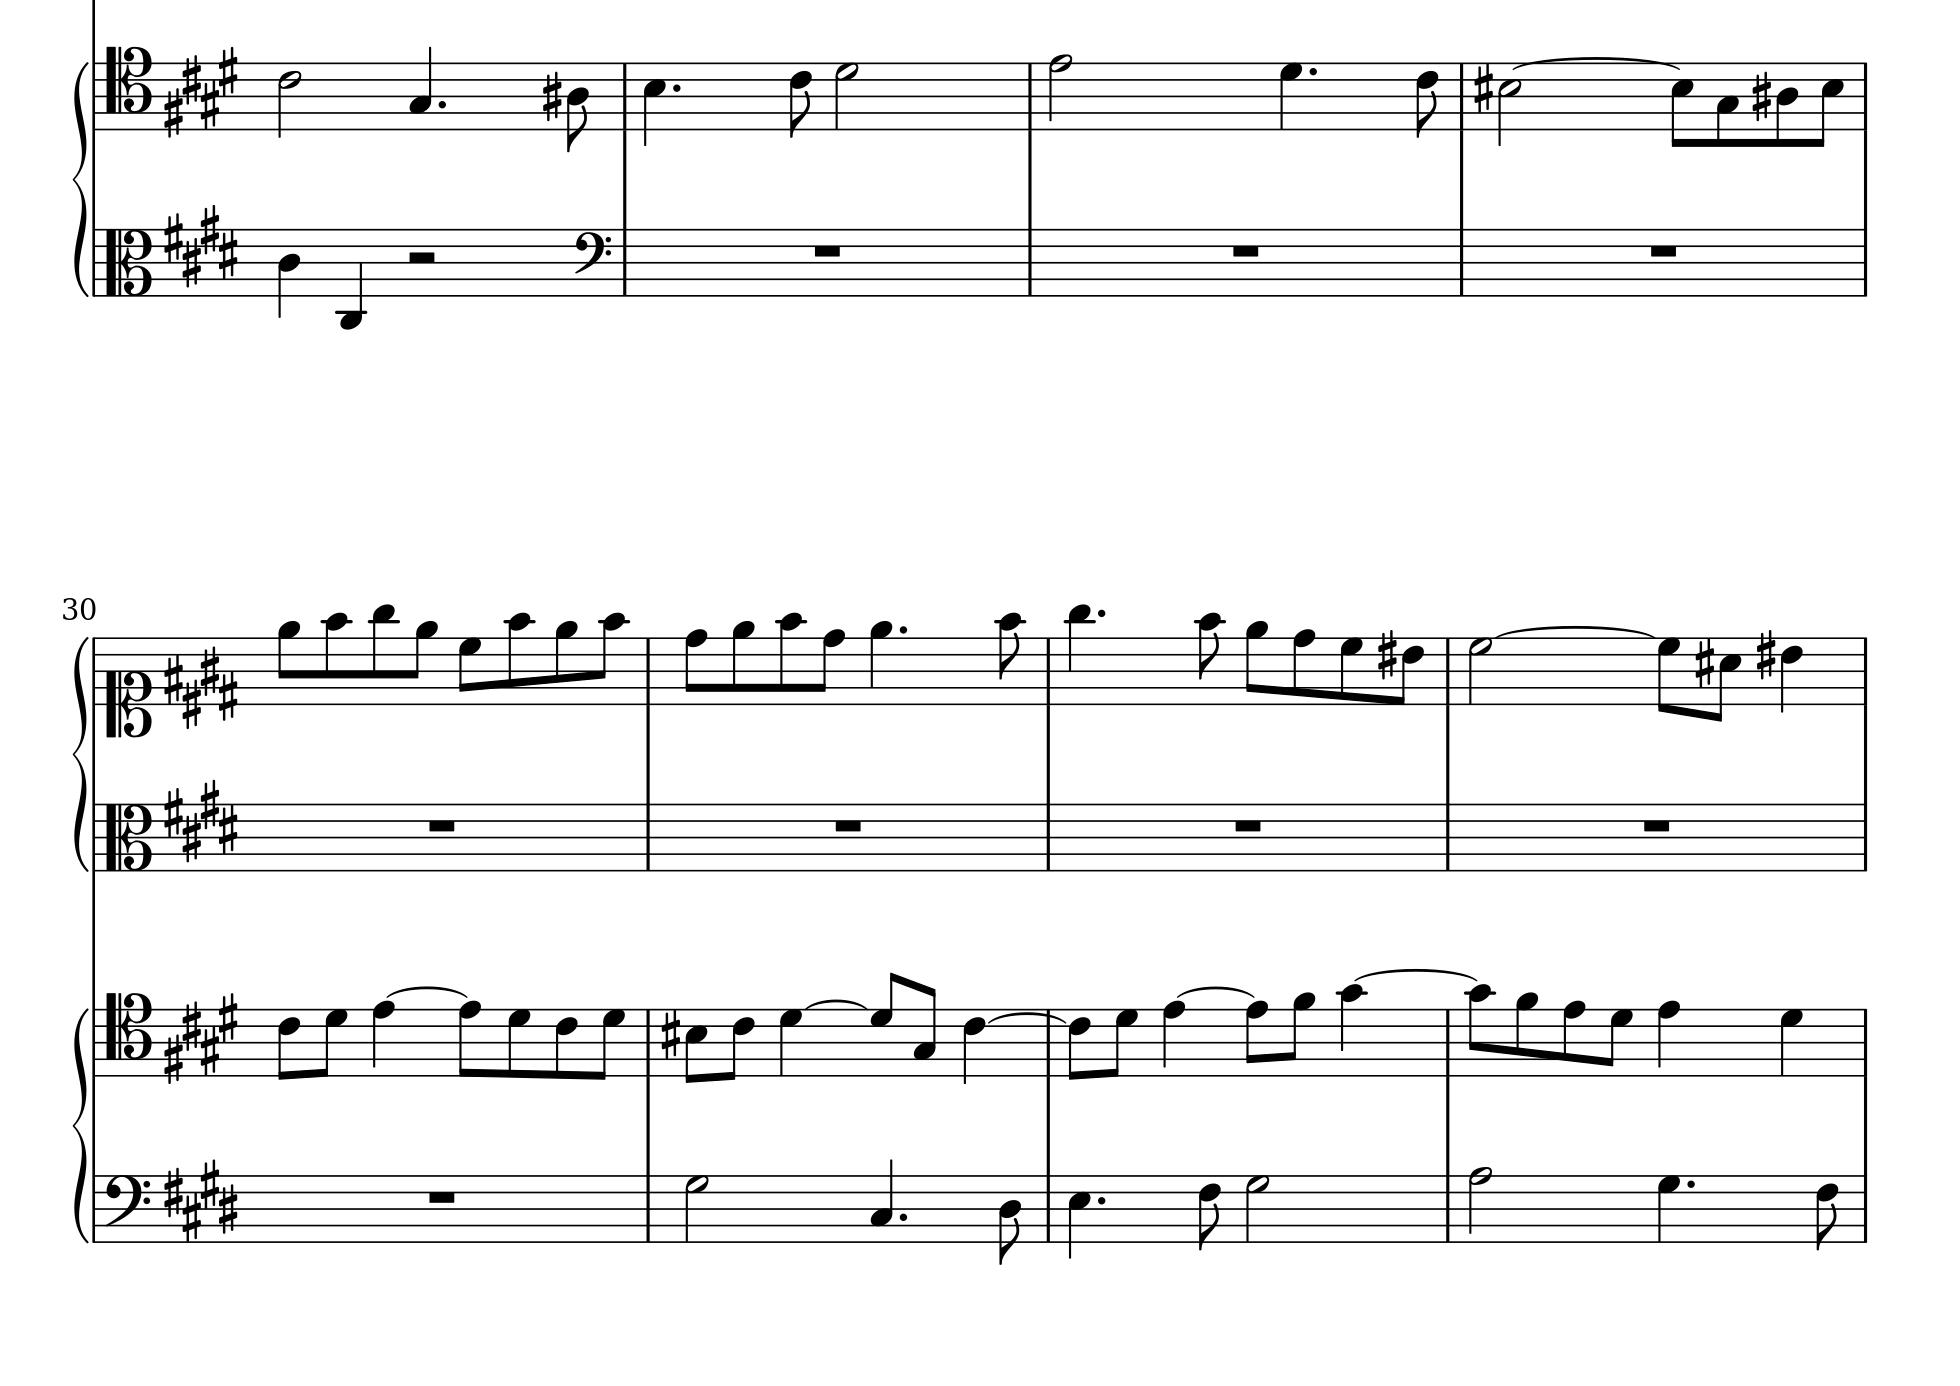0: (79, 595, 96, 621)
16_7: (1656, 634, 1683, 718)
2_5: (1497, 58, 1525, 147)
2_6: (276, 60, 303, 136)
2_7: (1467, 634, 1494, 708), (832, 60, 859, 132), (1243, 1171, 1269, 1243), (684, 1173, 709, 1243)
2_8: (1047, 51, 1074, 133), (1467, 1162, 1494, 1245)
3: (61, 595, 78, 621)
4_-3: (337, 225, 367, 330)
4_10: (1339, 982, 1366, 1078)
4_11: (1065, 601, 1095, 706)
4_3: (408, 43, 435, 130), (868, 1158, 895, 1243)
4_5: (640, 60, 667, 148), (1065, 1171, 1092, 1258)
4_6: (274, 226, 306, 319), (960, 1005, 987, 1084), (1779, 634, 1803, 711)
4_7: (1278, 60, 1305, 130), (1656, 1173, 1683, 1243), (1779, 1006, 1804, 1078), (777, 1006, 802, 1077)
4_8: (1161, 997, 1186, 1078), (1656, 997, 1681, 1078), (370, 999, 396, 1078)
4_9: (868, 618, 894, 706)
8_10: (595, 610, 628, 706), (996, 610, 1026, 706), (775, 610, 804, 706), (1197, 610, 1225, 706), (505, 609, 532, 706), (322, 610, 349, 706), (1467, 982, 1494, 1078)
8_11: (369, 600, 397, 706)
8_3: (912, 984, 937, 1078), (1716, 61, 1741, 148)
8_4: (996, 1171, 1023, 1264), (565, 60, 589, 151), (1776, 58, 1800, 148)
8_5: (1713, 634, 1743, 723), (1815, 58, 1845, 145), (1668, 60, 1695, 150), (682, 1006, 709, 1083)
8_6: (724, 1006, 756, 1080), (1395, 634, 1426, 706), (787, 60, 813, 139), (1815, 1171, 1840, 1251), (1197, 1173, 1222, 1251), (553, 1006, 580, 1078), (276, 1006, 301, 1081), (1416, 60, 1440, 139), (1066, 1006, 1092, 1080)
8_7: (868, 969, 900, 1075), (315, 1006, 349, 1078), (592, 1006, 625, 1078), (1107, 1006, 1138, 1078), (1603, 1006, 1633, 1077), (1338, 636, 1366, 706), (505, 1006, 532, 1078), (457, 634, 483, 706)
8_8: (814, 627, 846, 706), (682, 625, 709, 706), (1291, 627, 1318, 706), (1561, 997, 1587, 1078), (457, 999, 483, 1078), (1245, 999, 1269, 1078)
8_9: (1284, 990, 1317, 1078), (409, 619, 439, 708), (730, 619, 757, 706), (553, 618, 579, 706), (1515, 990, 1540, 1078), (1245, 619, 1270, 706), (277, 619, 301, 706)
Brace: (70, 631, 91, 876), (70, 58, 90, 297), (70, 1006, 90, 1245)
Cclef: (103, 802, 154, 877), (103, 226, 154, 298)
E_S: (162, 990, 241, 1084), (160, 45, 241, 136), (162, 1156, 241, 1243), (162, 202, 238, 289), (163, 643, 240, 730), (163, 778, 240, 862)
Fclef: (103, 1171, 154, 1245), (571, 226, 613, 295)
Rests1: (1644, 237, 1683, 261), (1230, 813, 1266, 835), (423, 814, 460, 835), (1639, 813, 1674, 835), (831, 814, 865, 835), (424, 1185, 459, 1206), (1230, 238, 1263, 259), (810, 238, 844, 258)
Rests2: (403, 247, 439, 265)
Sharp: (1755, 625, 1779, 679), (540, 70, 562, 124), (658, 1006, 681, 1059), (1695, 634, 1716, 688), (1473, 61, 1494, 114), (1377, 627, 1398, 679), (1752, 69, 1773, 118)
Single_barline: (1854, 634, 1873, 706), (616, 61, 634, 130), (1452, 61, 1470, 130), (1042, 1009, 1060, 1078), (639, 1173, 657, 1242), (1855, 1173, 1873, 1242), (639, 636, 657, 703), (1440, 1008, 1458, 1075), (1453, 228, 1470, 297), (1440, 637, 1456, 706), (1041, 802, 1057, 871), (1857, 1006, 1873, 1075), (616, 228, 633, 295), (1041, 637, 1057, 705), (1440, 1174, 1456, 1240), (1857, 226, 1872, 298), (88, 801, 103, 871), (88, 1006, 103, 1077), (88, 61, 103, 130), (1023, 61, 1038, 130), (1023, 228, 1038, 297), (640, 802, 655, 871), (1440, 802, 1455, 871), (1857, 802, 1872, 871), (640, 1008, 655, 1077), (88, 1173, 103, 1242), (1858, 58, 1872, 133), (88, 637, 103, 705), (1042, 1174, 1056, 1240), (88, 226, 100, 297)
Slur: (1510, 55, 1683, 72), (1494, 625, 1653, 637), (1354, 967, 1479, 982), (385, 984, 469, 997), (987, 1011, 1069, 1024), (1176, 984, 1257, 997), (805, 996, 868, 1011)
Soprano_Cclef: (105, 634, 154, 739)
Tensor_Cclef: (105, 988, 154, 1080), (103, 43, 154, 132)
dot: (1095, 606, 1110, 622), (669, 79, 682, 96), (436, 96, 447, 112), (1306, 64, 1320, 76), (895, 622, 909, 634), (1684, 1177, 1696, 1189), (895, 1210, 907, 1222), (1095, 1194, 1107, 1204)
